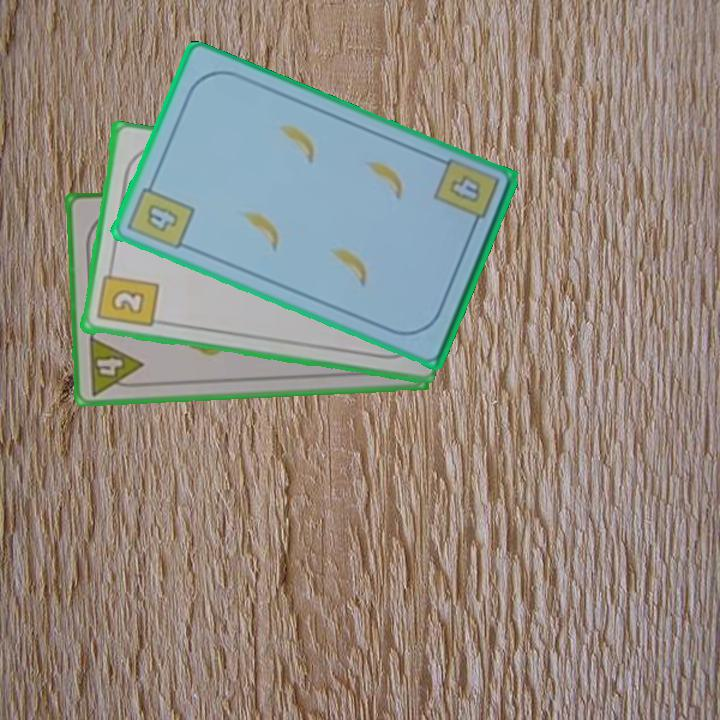2b: (93, 262, 160, 331)
4b: (124, 175, 198, 253), (445, 172, 484, 207)
4p: (84, 333, 146, 398)
